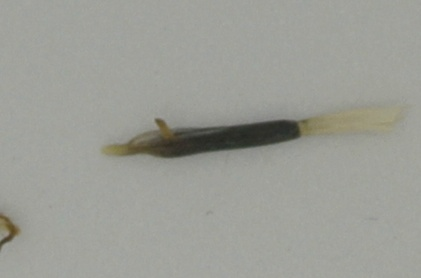เมล็ดงอกแตก: (102, 103, 404, 162)
